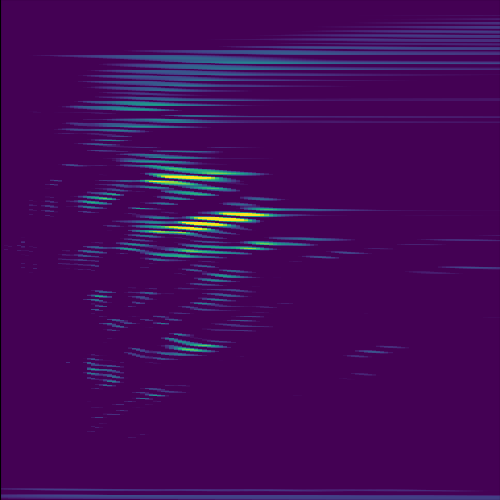semblance: (135, 210, 279, 239), (137, 163, 248, 189)
